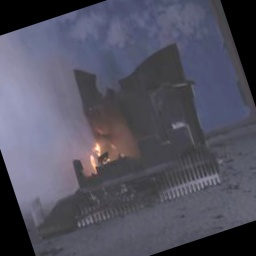fire: (74, 128, 117, 176)
smoke: (0, 17, 94, 164)
